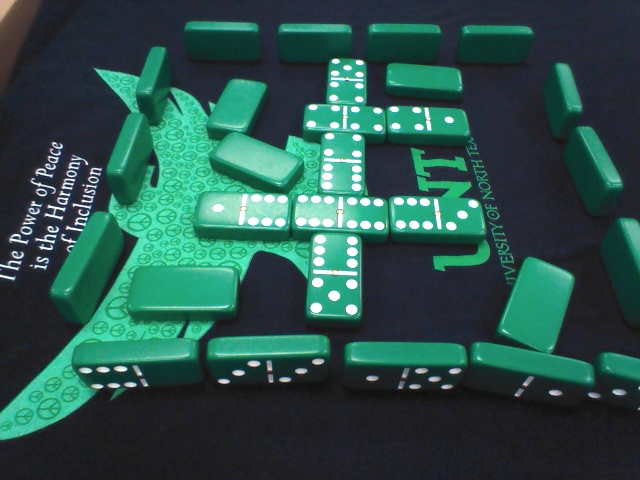A: (489, 249, 573, 351), (130, 256, 237, 321), (206, 129, 308, 191), (199, 72, 267, 138), (382, 62, 469, 101)
B: (299, 232, 371, 319), (293, 188, 391, 240), (198, 185, 291, 239), (389, 197, 489, 244), (385, 103, 475, 150), (299, 98, 387, 143), (314, 131, 374, 197), (309, 51, 374, 109)
C: (49, 207, 123, 325), (103, 113, 160, 205), (129, 46, 180, 124)
D: (556, 130, 626, 217), (594, 215, 640, 326), (531, 61, 587, 143)
E: (465, 331, 595, 407), (65, 335, 209, 393), (338, 336, 465, 400), (205, 330, 335, 387), (585, 348, 640, 404)
F: (451, 23, 537, 66), (179, 21, 262, 64), (275, 24, 353, 64), (360, 26, 446, 62)
